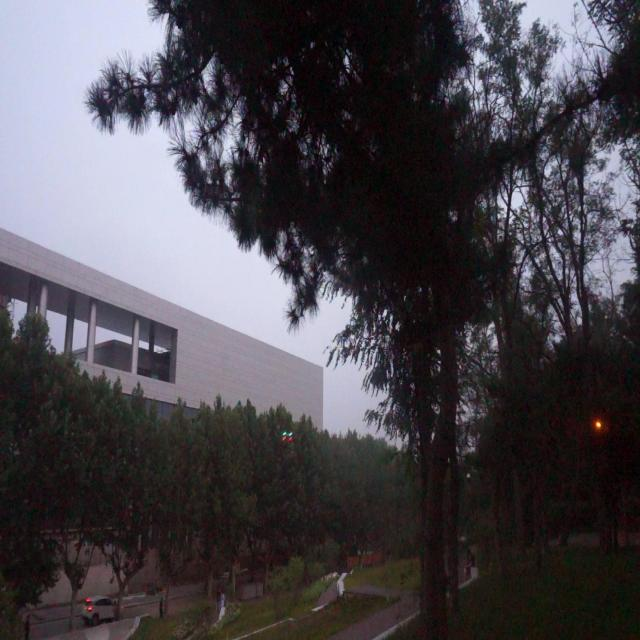UAV: (281, 431, 294, 443)
